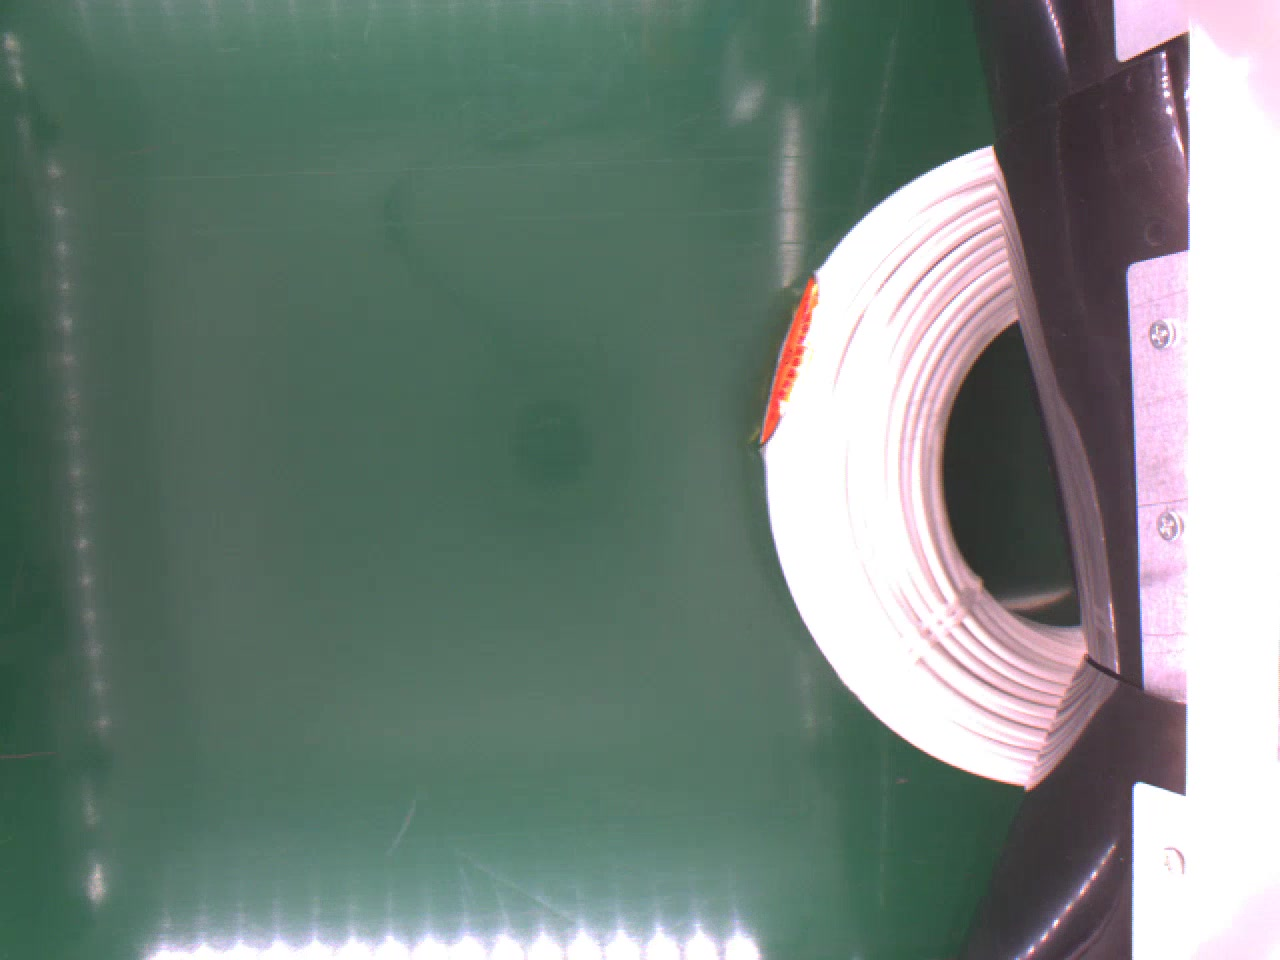white: (760, 139, 1087, 783)
